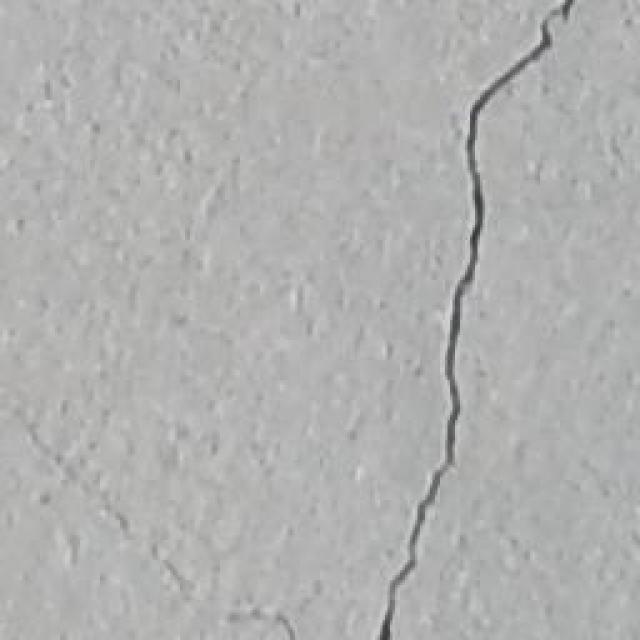concrete-crack: (378, 0, 578, 640)
